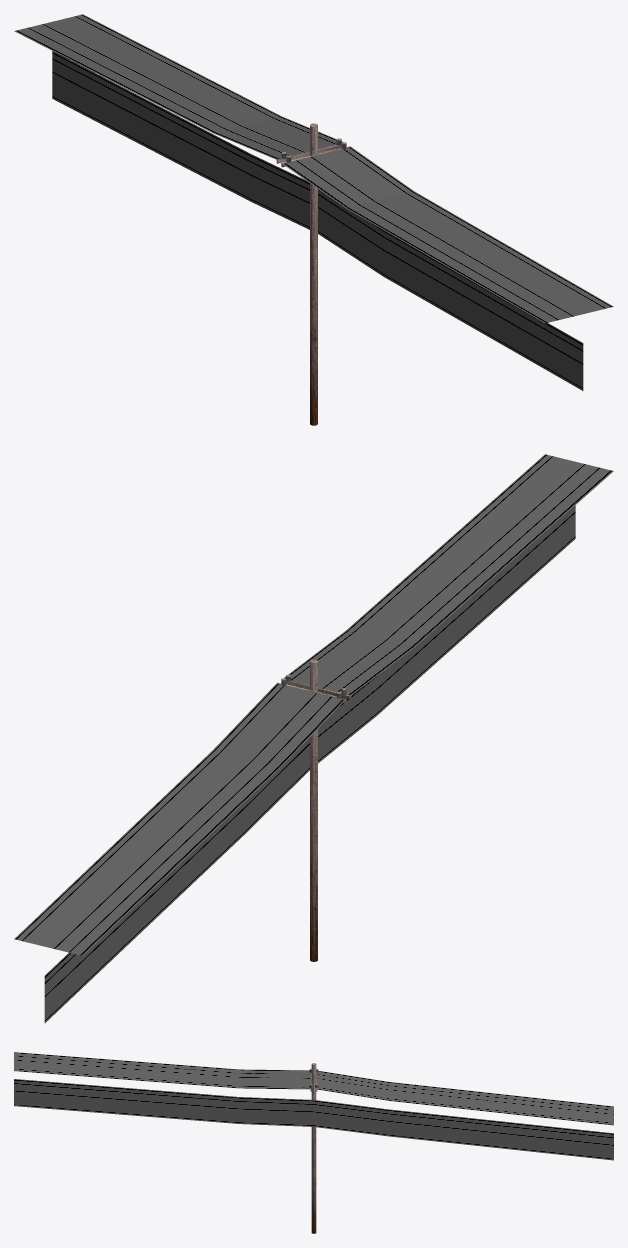
File: tpole40_1c.fbx
3 renders of one model, top to bottom at view 1: azimuth 30°, elevation 25°; view 2: azimuth 150°, elevation 25°; view 3: azimuth 270°, elevation 25°, orthographic. The views are drawn at different scales.
Parts seen in each view (by area): view 1: mesh_0; view 2: mesh_0; view 3: mesh_0.
Part boxes in pixels (bbox=[...]): mesh_0: bbox=[14, 14, 613, 425]; mesh_0: bbox=[14, 454, 613, 1023]; mesh_0: bbox=[14, 1052, 613, 1233].
Size of the model in its own units: 300 by 1260 by 4000.
Materials: 1 (1 with a texture image).
